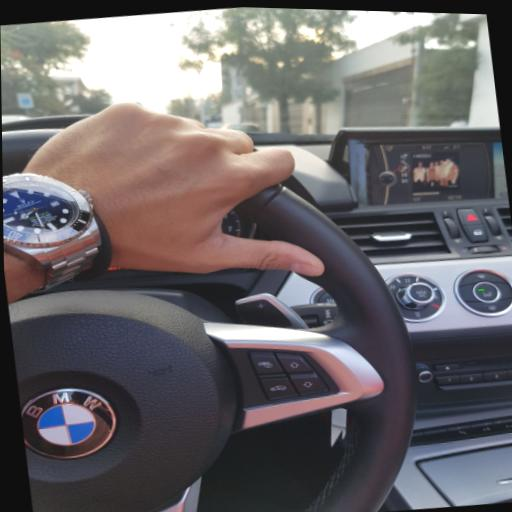Hands-on-the-Wheel: (1, 55, 379, 333)
